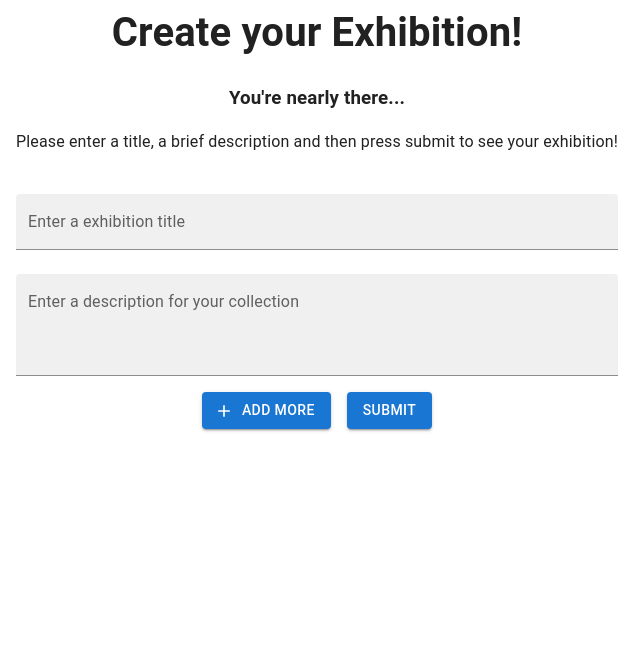
Test case: ExhibitionPage › snackbar alerts user when trying to submit an empty collection to exhibition
This screenshot has width=635, height=660.
Step 1. Click the button "Submit" → click(389, 411), box [347,392,432,429]
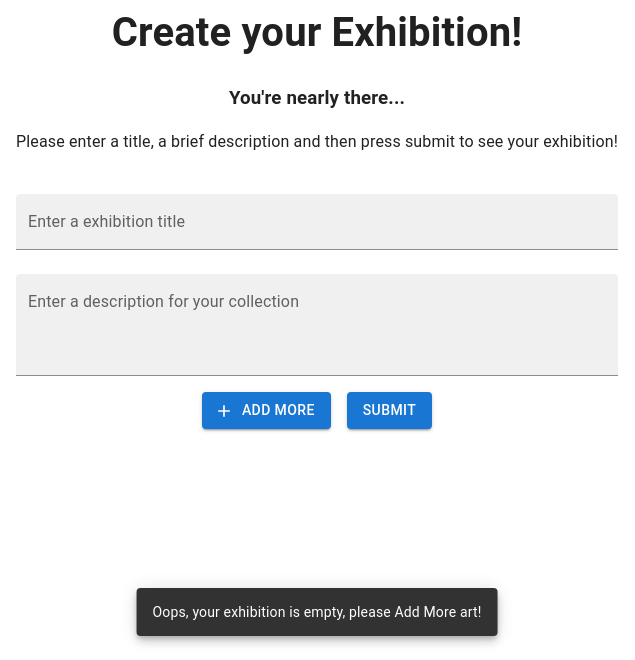
Check: the text "Oops, your exhibition is empty, please Add More art!" is shown, box [153,604,482,620]
